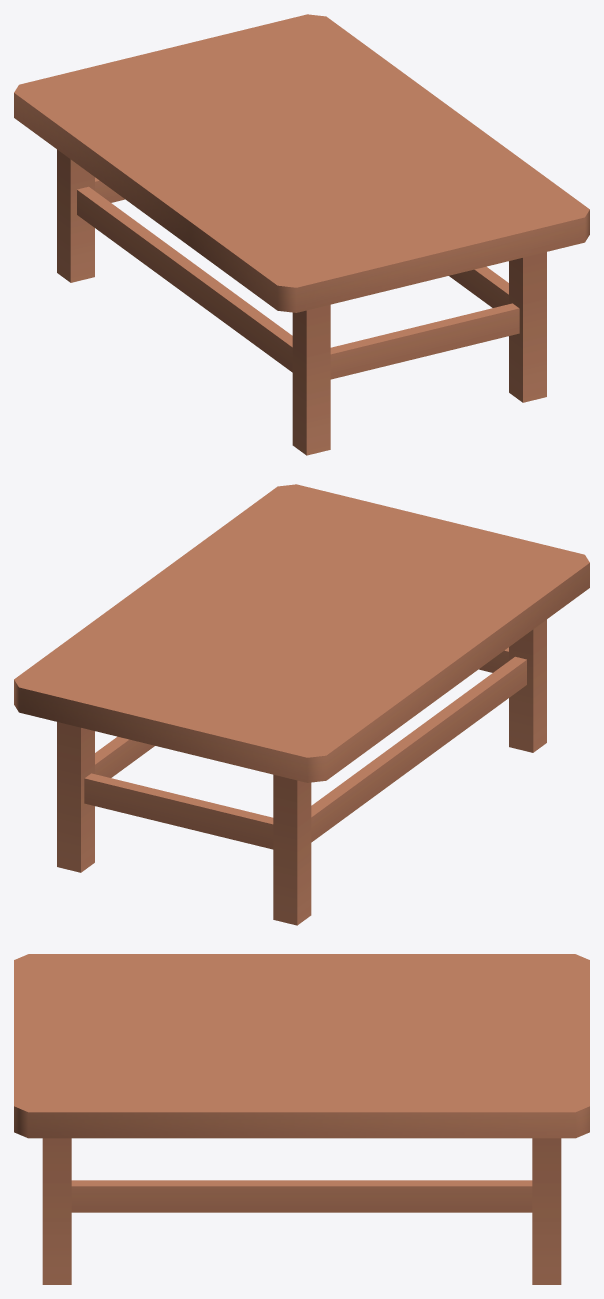
Rendered from market_stall.glb.
3 views of the same model, one above another, from view 1: azimuth 30°, elevation 25°; view 2: azimuth 150°, elevation 25°; view 3: azimuth 270°, elevation 25° (orthographic). The views are drawn at different scales.
Visible parts, largest first — view 1: stall; view 2: stall; view 3: stall.
Boxes of the visible parts, x1=… form: stall: x1=14, y1=14, x2=589, y2=455; stall: x1=14, y1=484, x2=589, y2=925; stall: x1=14, y1=954, x2=589, y2=1284.
Size of the model in its own units: 0.65 by 0.3655 by 1.
Materials: 1 (1 with a texture image).
